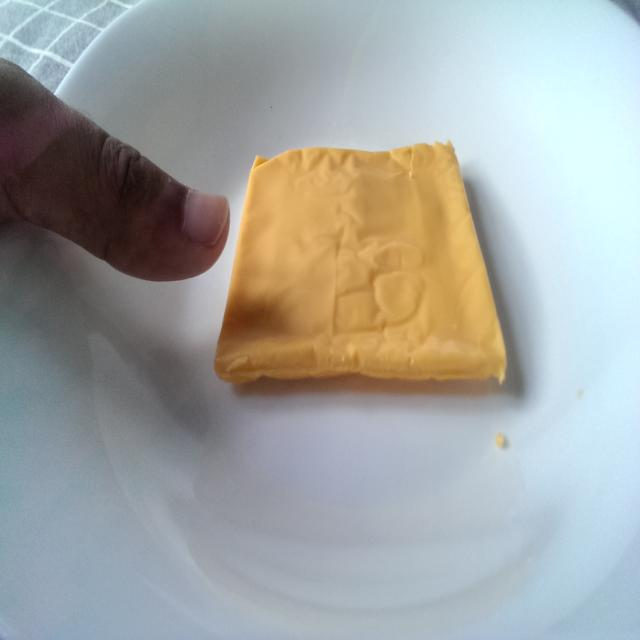cheese: (218, 129, 522, 416)
